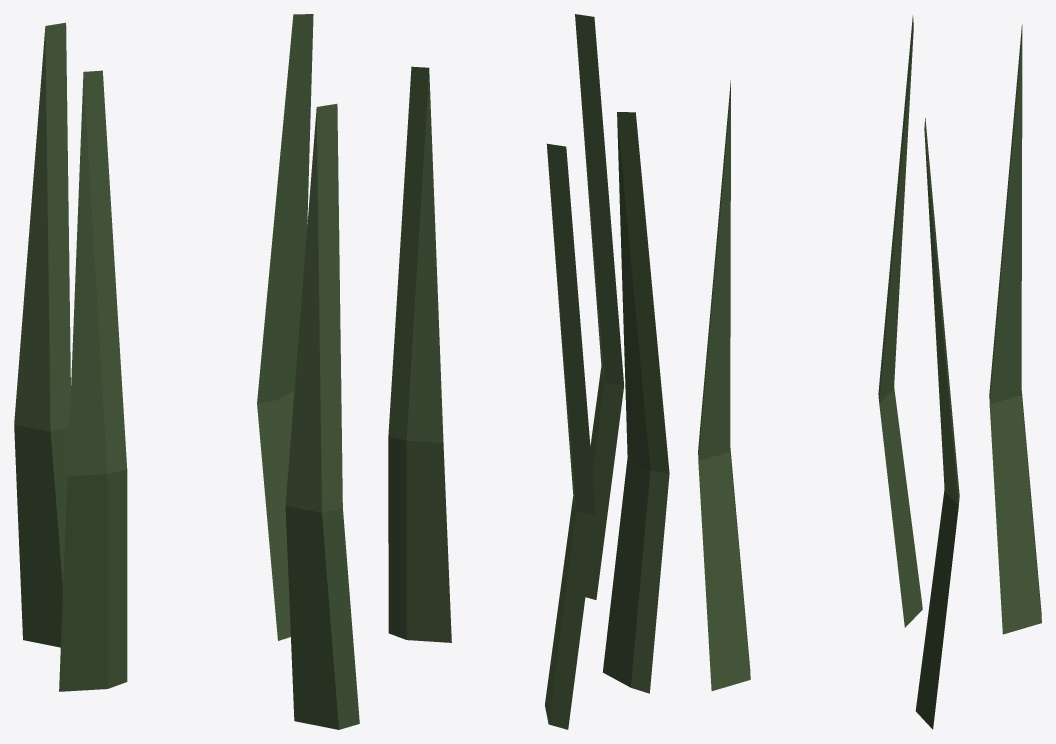
File: quaternius-crops-grass-2.glb
3 renders of one model, left to right at view 1: azimuth 30°, elevation 25°; view 2: azimuth 150°, elevation 25°; view 3: azimuth 270°, elevation 25°, orthographic. The views are drawn at different scales.
Parts seen in each view (by area): view 1: Grass_2; view 2: Grass_2; view 3: Grass_2.
Boxes of the visible parts, bbox=[...] form: Grass_2: bbox=[14, 14, 359, 729]; Grass_2: bbox=[388, 14, 669, 729]; Grass_2: bbox=[698, 15, 1041, 729].
Bounding box in the file's own units: 0.2501 × 0.5237 × 0.2732.
